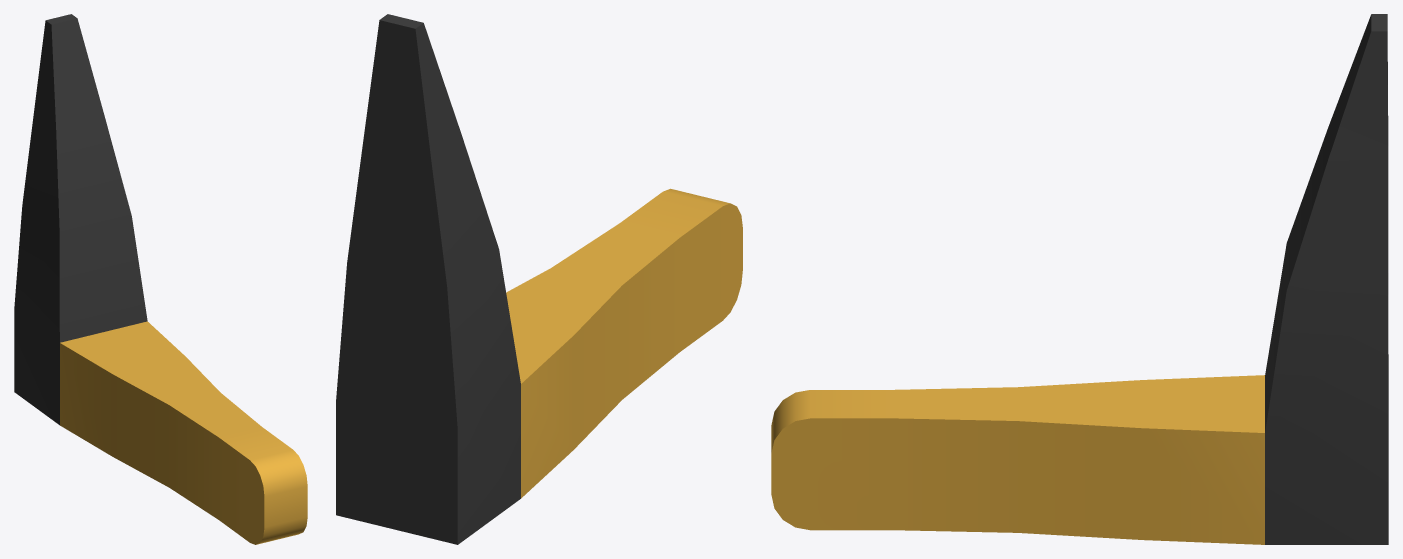
File: crystal_pickaxe.fbx
3 renders of one model, left to right at view 1: azimuth 30°, elevation 25°; view 2: azimuth 150°, elevation 25°; view 3: azimuth 270°, elevation 25°, orthographic. The views are drawn at different scales.
Visible parts, largest first — view 1: pickaxe; view 2: pickaxe; view 3: pickaxe.
Part boxes in pixels (x1,y1,x2,y2): pickaxe: (14,14,307,544); pickaxe: (336,14,742,544); pickaxe: (771,14,1388,544).
Size of the model in its own units: 111 by 441 by 500.
